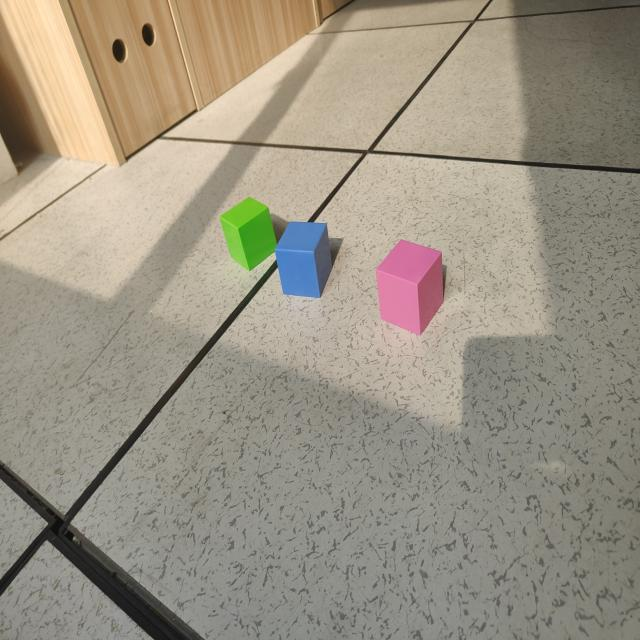blue: (271, 222, 340, 301)
green: (216, 194, 280, 272)
pink: (375, 241, 446, 337)
